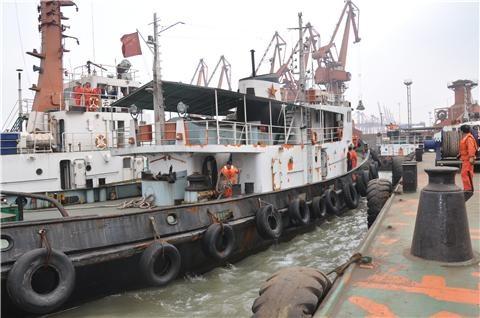otherboat: (1, 9, 370, 305)
